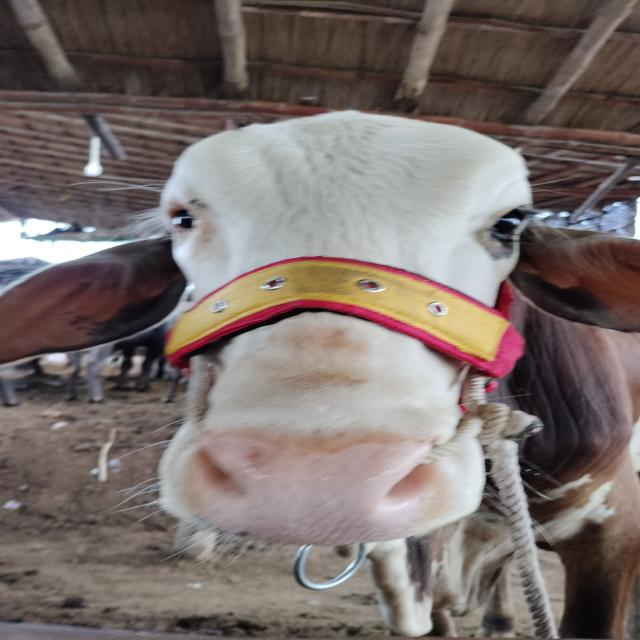muzzles: (158, 422, 467, 549)
